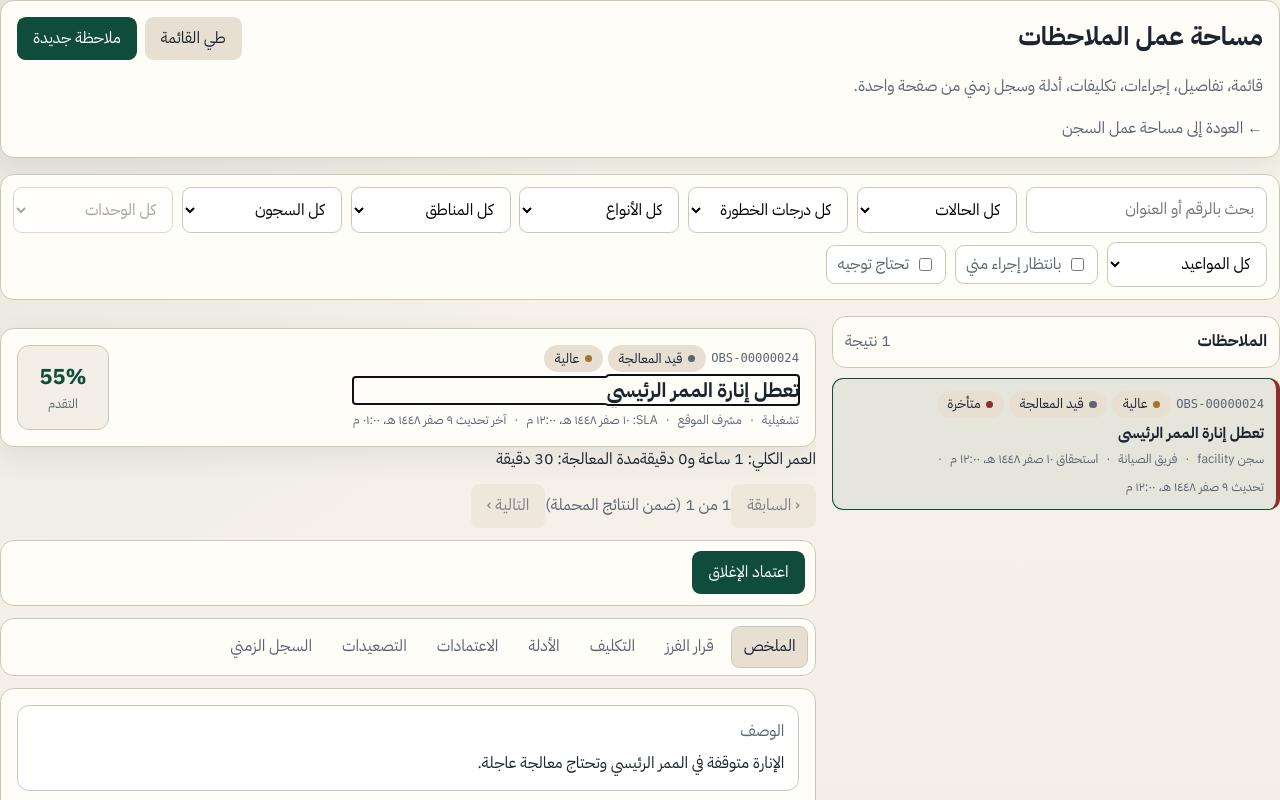
ObservationWorkspacePage › shows a dedicated closure-summary form for VERIFY_CLOSURE and a return link to the originating facility workspace
Check: the link "← العودة إلى مساحة عمل السجن" is shown, box [1062,116,1263,140]
Check: the heading "تعطل إنارة الممر الرئيسي" is shown, box [607,375,799,405]
What coordinates should you click on to do the following:
click the button "اعتماد الإغلاق"
I would click on:
 (748, 573)
Its box is [692,551,805,594].
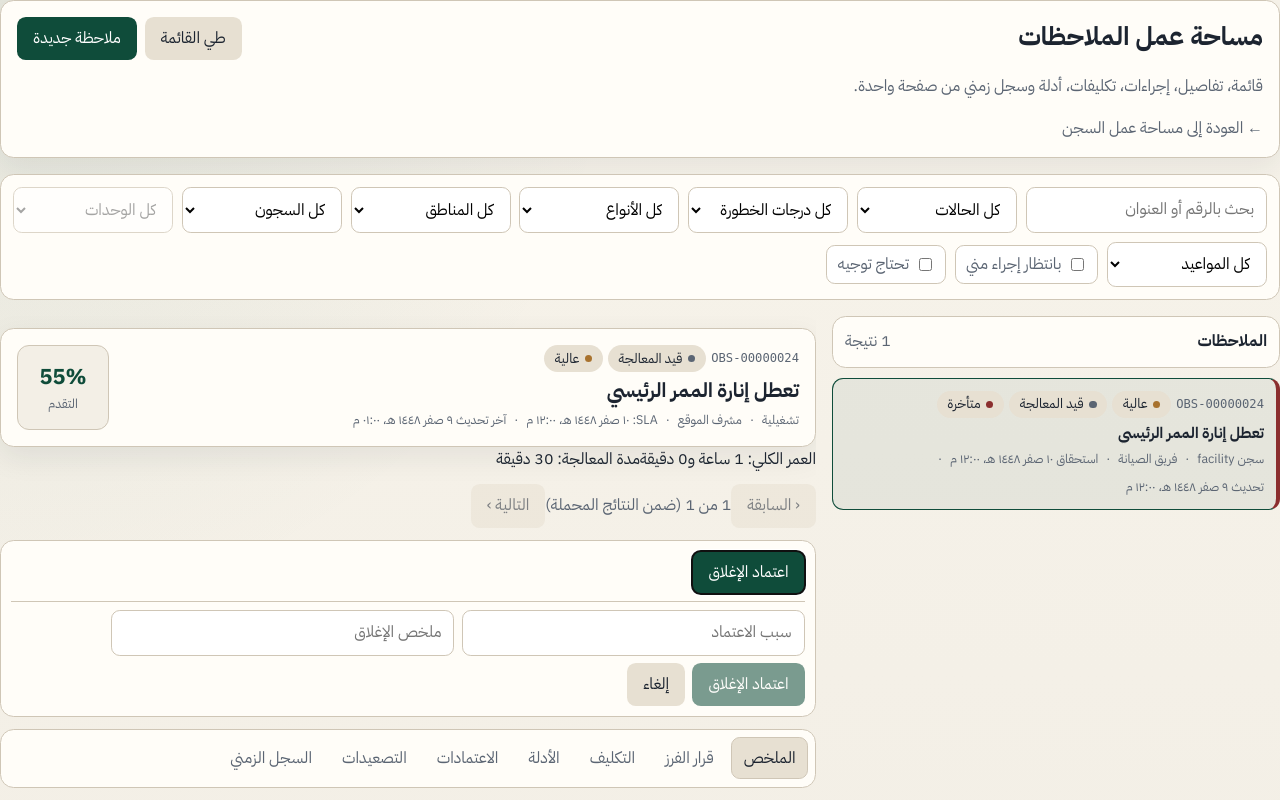
Check: the field labelled "ملخص الإغلاق" is shown, box [111,610,454,656]
